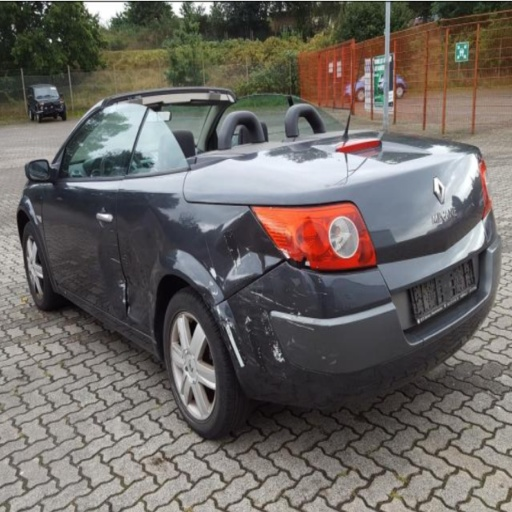dent: (160, 203, 286, 291), (119, 229, 148, 330), (97, 224, 125, 318), (135, 202, 173, 256), (299, 268, 337, 320), (196, 280, 216, 305)
scratch: (249, 290, 302, 314), (223, 321, 245, 368), (227, 244, 252, 280), (111, 255, 126, 309), (204, 238, 218, 282), (285, 320, 316, 333), (272, 339, 285, 364), (224, 232, 234, 259), (193, 280, 216, 291), (247, 353, 261, 369), (122, 238, 130, 266), (225, 316, 237, 332), (261, 317, 270, 338), (126, 279, 131, 315), (307, 290, 331, 297), (260, 307, 270, 323), (244, 315, 252, 333), (119, 284, 126, 304), (293, 289, 308, 298), (238, 294, 251, 304), (213, 304, 221, 318), (145, 291, 153, 303), (219, 274, 225, 290), (327, 358, 339, 366), (109, 257, 121, 264), (211, 288, 218, 300), (305, 306, 317, 313), (166, 256, 178, 262), (258, 344, 262, 359), (127, 278, 129, 303), (270, 321, 274, 333), (285, 340, 291, 347), (151, 302, 155, 312), (327, 353, 340, 356), (291, 294, 298, 299), (152, 339, 157, 345), (283, 373, 287, 380), (322, 356, 327, 361), (119, 280, 125, 284), (245, 246, 249, 252), (228, 344, 232, 350), (292, 338, 296, 344), (317, 349, 321, 355), (122, 257, 129, 260), (128, 305, 130, 315), (113, 243, 119, 246), (115, 244, 121, 247), (151, 330, 155, 333), (109, 230, 114, 232), (124, 262, 129, 264), (263, 365, 265, 370), (122, 255, 128, 256)
